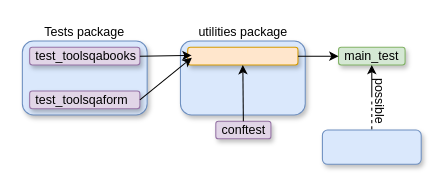
This 446x189 diagram has some shape labels left out. The shapes that lost their labels are listed below. From the top down, each one's centre as x and y in pixels, then its label:
pixel 243 57: BaseClass
pixel 372 148: Other Tests with other requests
